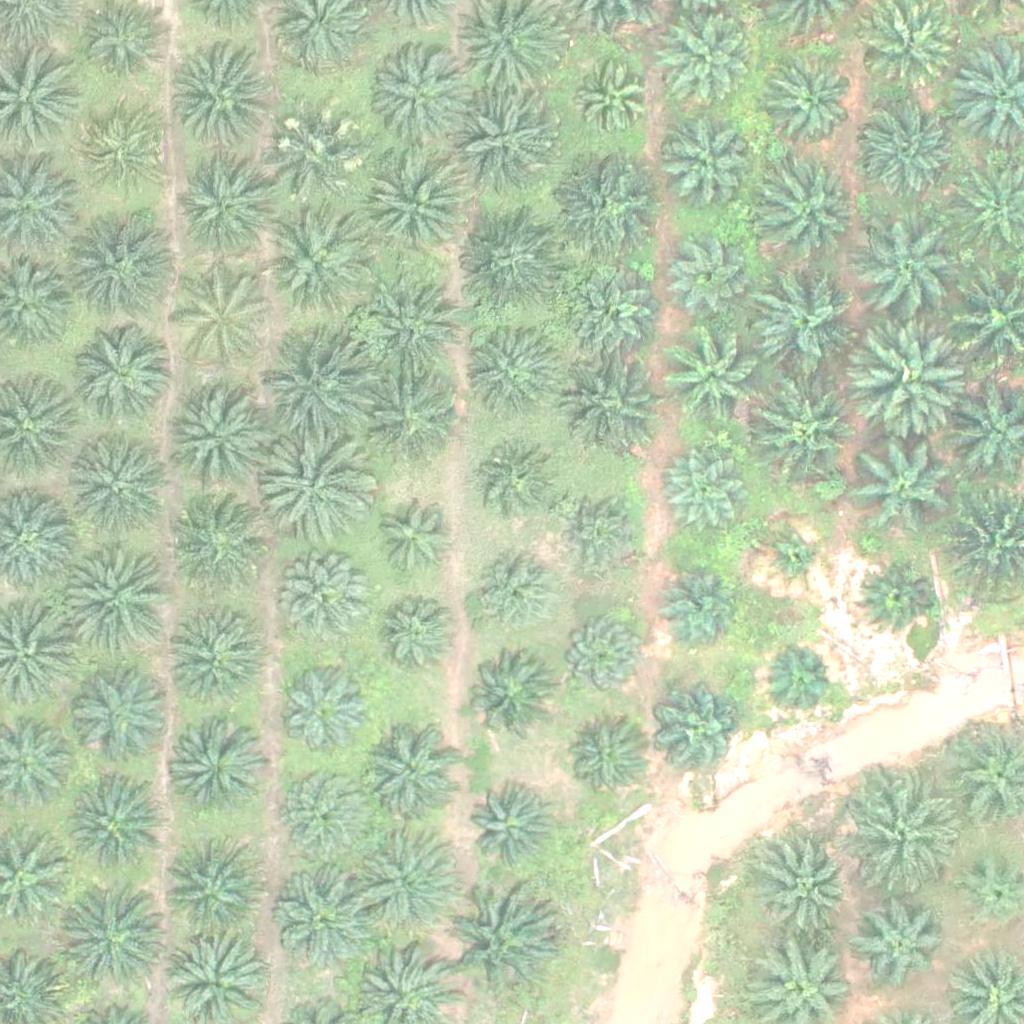Kelapa_Sawit: (753, 155, 866, 269), (845, 780, 958, 894), (62, 540, 175, 653), (548, 151, 661, 264), (859, 321, 972, 434), (443, 885, 556, 998), (68, 430, 180, 544), (261, 429, 373, 543), (261, 337, 373, 451), (858, 215, 970, 329), (72, 212, 184, 325), (171, 379, 283, 492), (452, 90, 564, 203), (460, 203, 572, 316), (752, 265, 864, 378), (751, 367, 863, 480), (854, 430, 966, 543), (346, 822, 458, 935), (58, 880, 170, 993), (71, 664, 171, 765), (78, 323, 178, 424), (172, 45, 272, 146), (169, 269, 269, 370), (164, 499, 264, 600), (168, 614, 268, 715), (169, 722, 269, 823), (266, 117, 366, 218), (371, 161, 471, 262), (366, 277, 466, 378), (364, 369, 464, 470), (462, 320, 562, 421), (654, 11, 754, 112), (663, 324, 763, 425), (277, 863, 377, 964), (161, 844, 261, 945), (65, 776, 165, 877), (171, 160, 271, 260), (277, 661, 377, 761), (267, 216, 367, 316), (367, 51, 467, 151), (363, 725, 463, 825), (564, 347, 664, 447), (863, 101, 963, 201), (758, 837, 858, 937), (368, 592, 456, 681), (282, 768, 370, 857), (474, 446, 562, 534), (80, 105, 168, 193), (661, 111, 749, 199), (669, 232, 757, 320), (661, 452, 749, 540), (658, 691, 746, 779), (563, 718, 650, 806), (558, 611, 645, 699), (558, 490, 645, 578), (365, 499, 452, 587), (468, 550, 555, 638), (464, 650, 551, 738), (284, 562, 371, 650), (569, 57, 656, 145), (570, 274, 657, 362), (656, 558, 743, 646), (770, 64, 857, 152), (855, 904, 942, 992), (469, 787, 556, 875), (856, 559, 931, 635), (762, 642, 837, 717), (763, 531, 826, 594)
